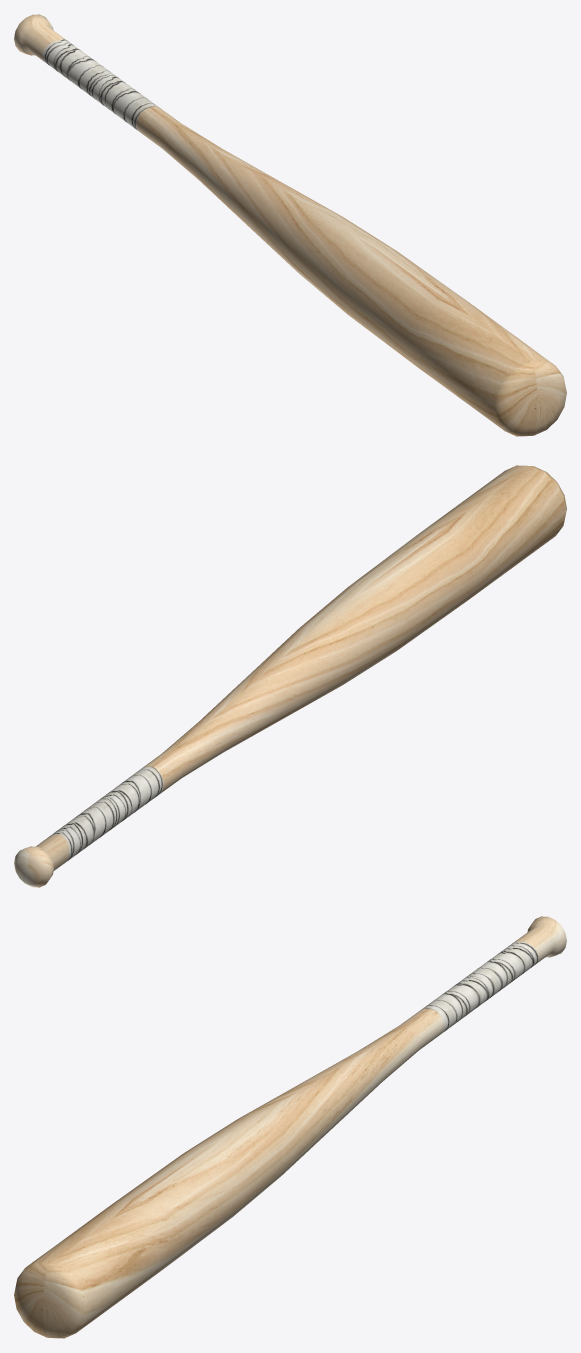
The model's file is BaseballBat.fbx.
3 renders of one model, top to bottom at view 1: azimuth 30°, elevation 25°; view 2: azimuth 150°, elevation 25°; view 3: azimuth 330°, elevation 25°, orthographic.
Visible parts, largest first — view 1: BaseballBat; view 2: BaseballBat; view 3: BaseballBat.
Boxes of the visible parts, x1,y1,x2,y2 form: BaseballBat: [14, 14, 566, 436]; BaseballBat: [14, 465, 566, 887]; BaseballBat: [14, 916, 566, 1338].
Size of the model in its own units: 0.4355 by 0.4355 by 5.36.
